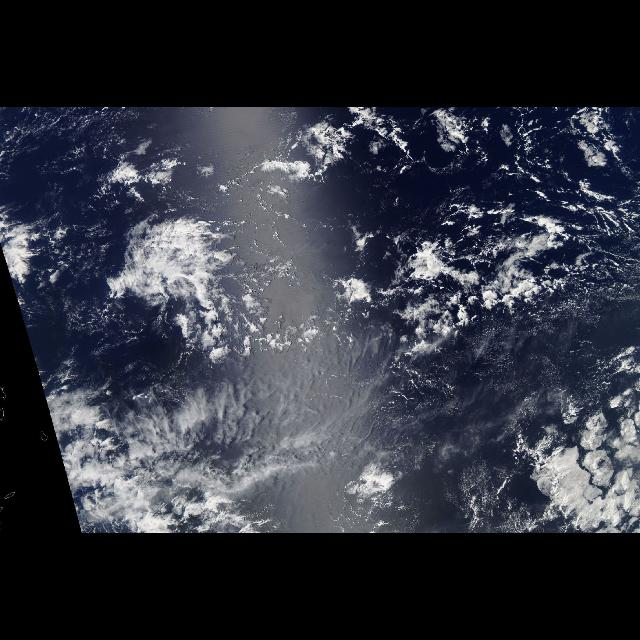Fish: (78, 190, 314, 374)
Flower: (252, 109, 640, 533)
